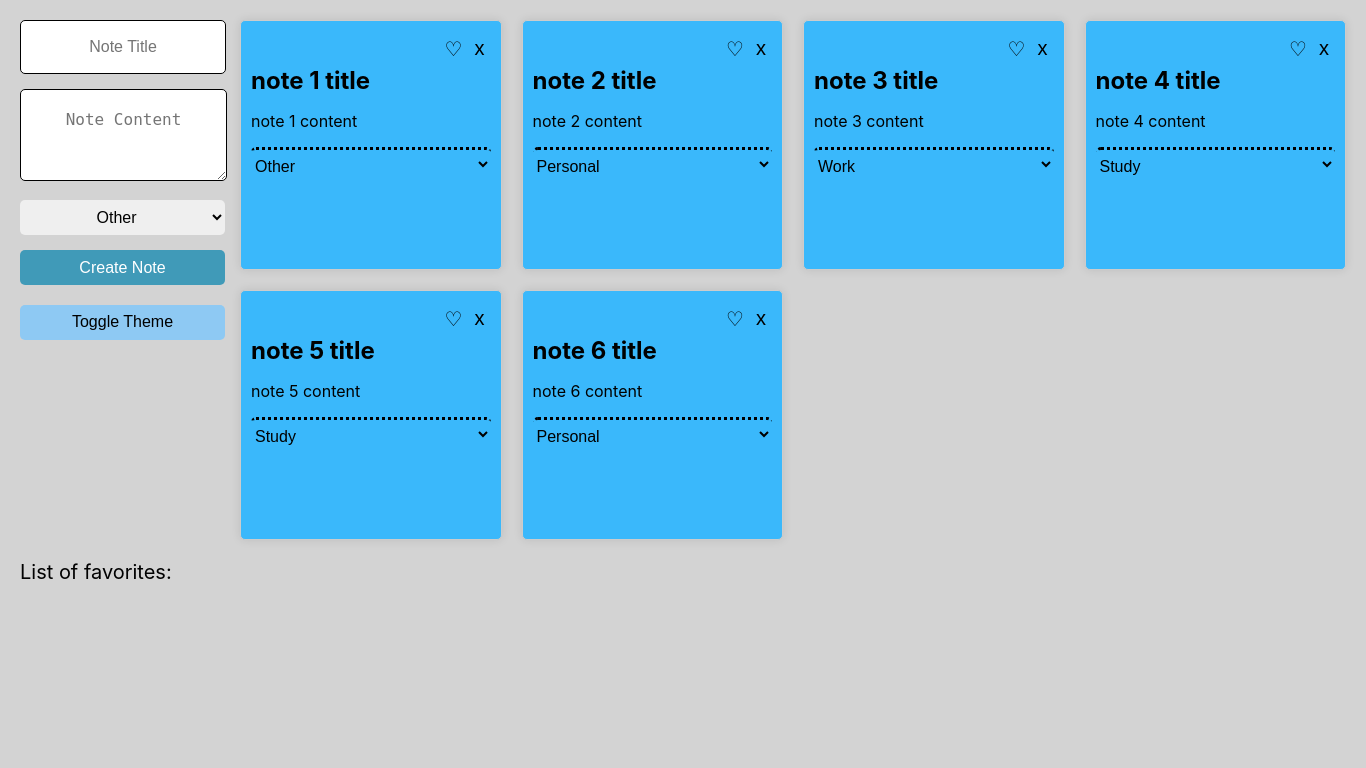
Test case: StickyNote › No note
Click the 1st button "x" at (480, 48), box [468,31,490,66]
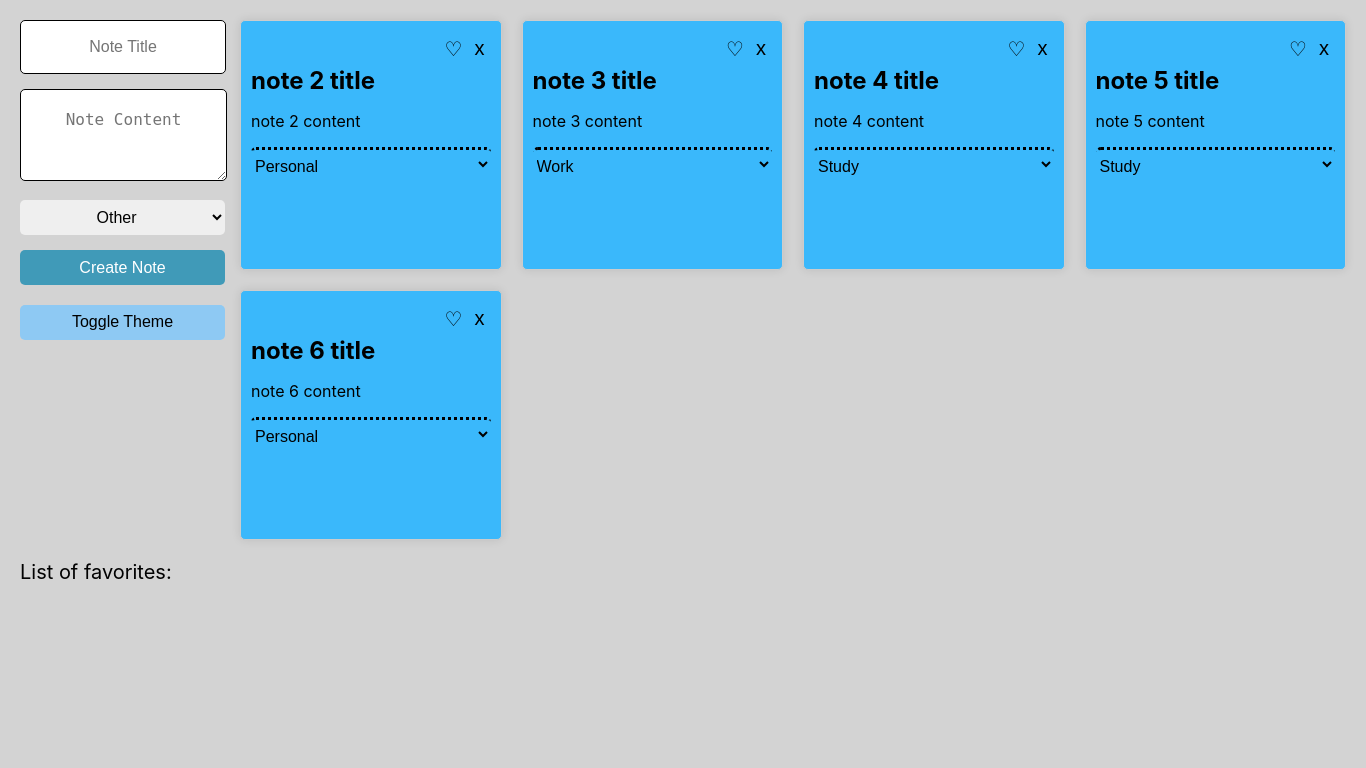
Click the 1st button "x" at (480, 48), box [468,31,490,66]
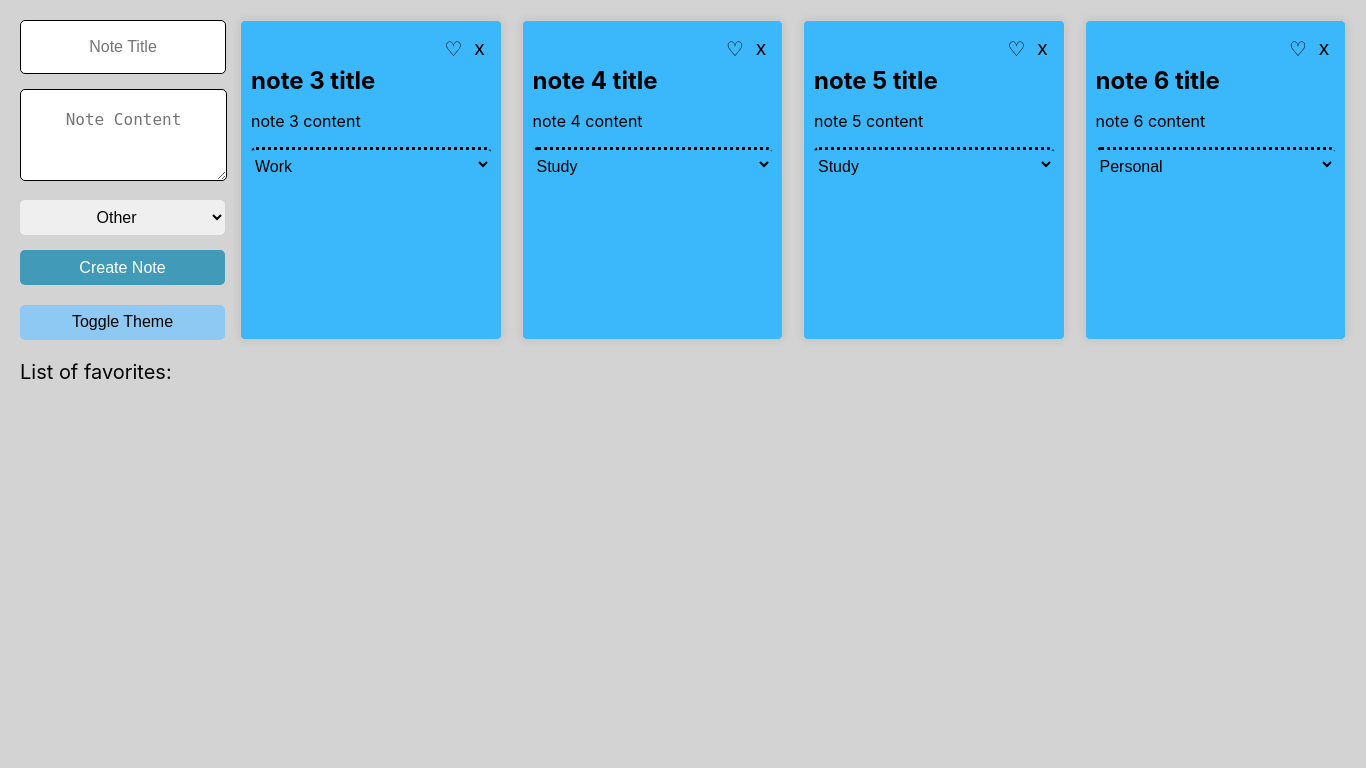
Click the 1st button "x" at (480, 48), box [468,31,490,66]
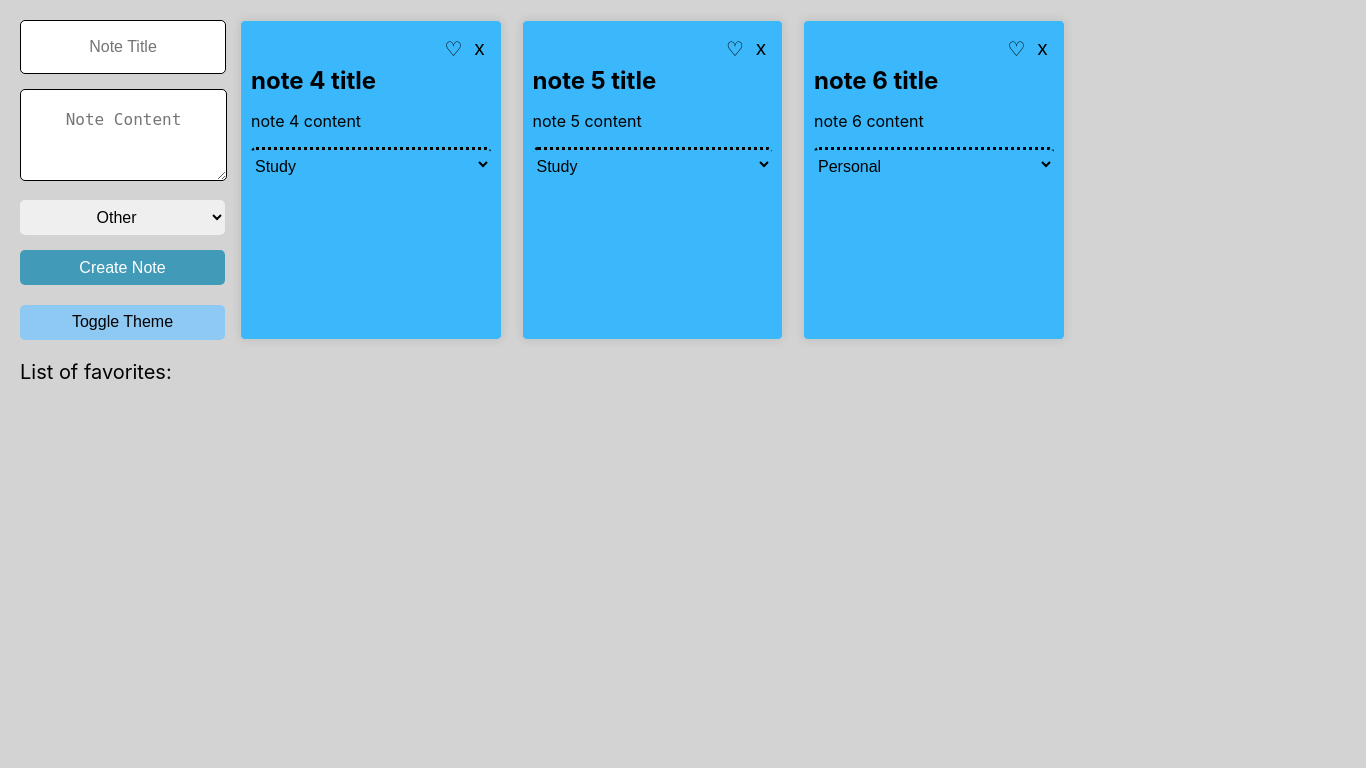
Click the 1st button "x" at (480, 48), box [468,31,490,66]
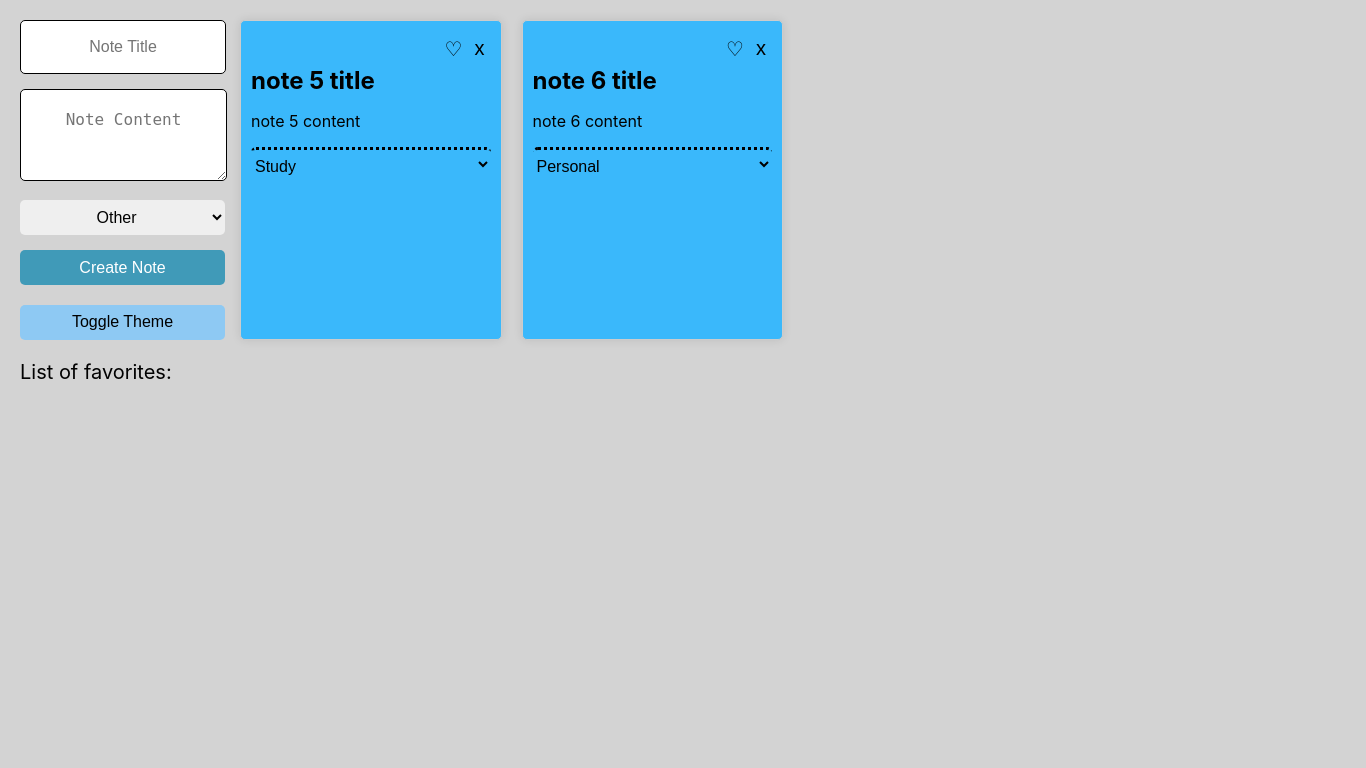
Click the 1st button "x" at (480, 48), box [468,31,490,66]
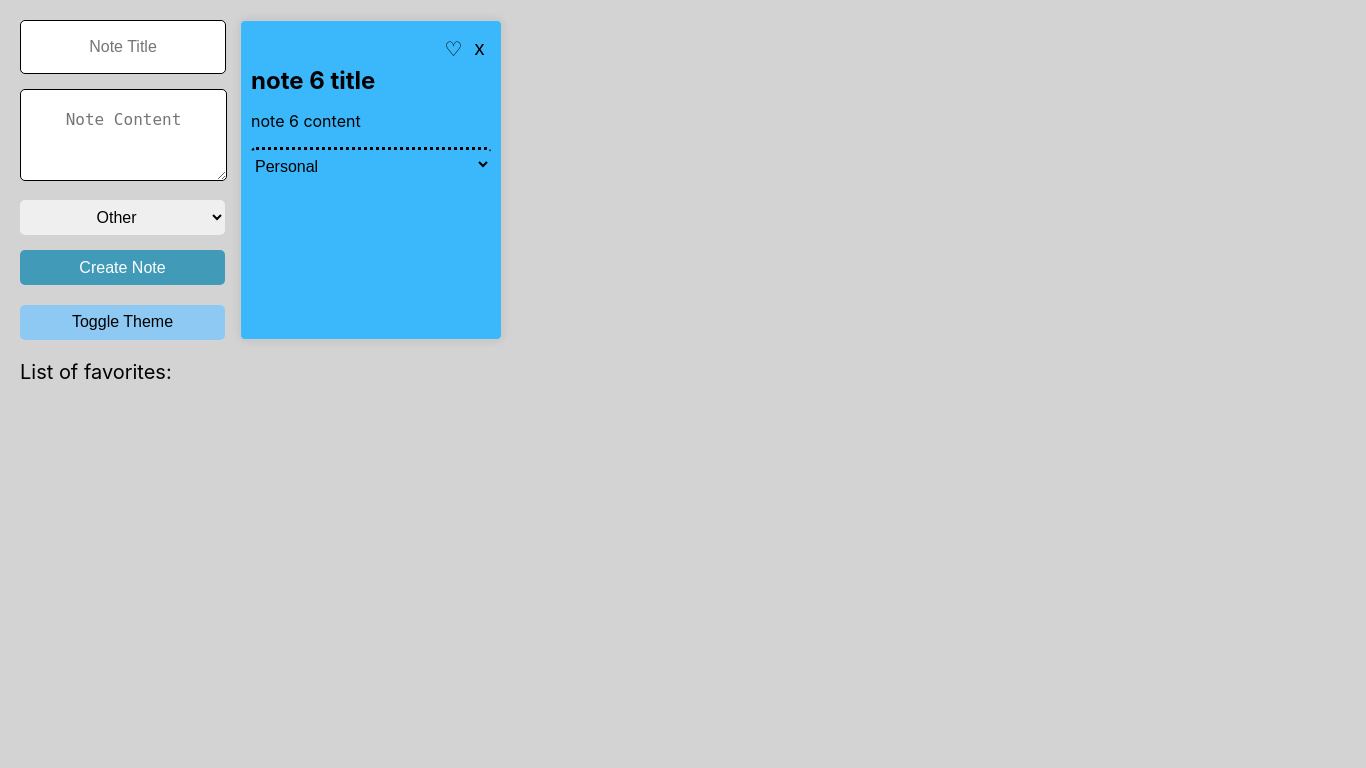
Click the button "x" at (480, 48), box [468,31,490,66]
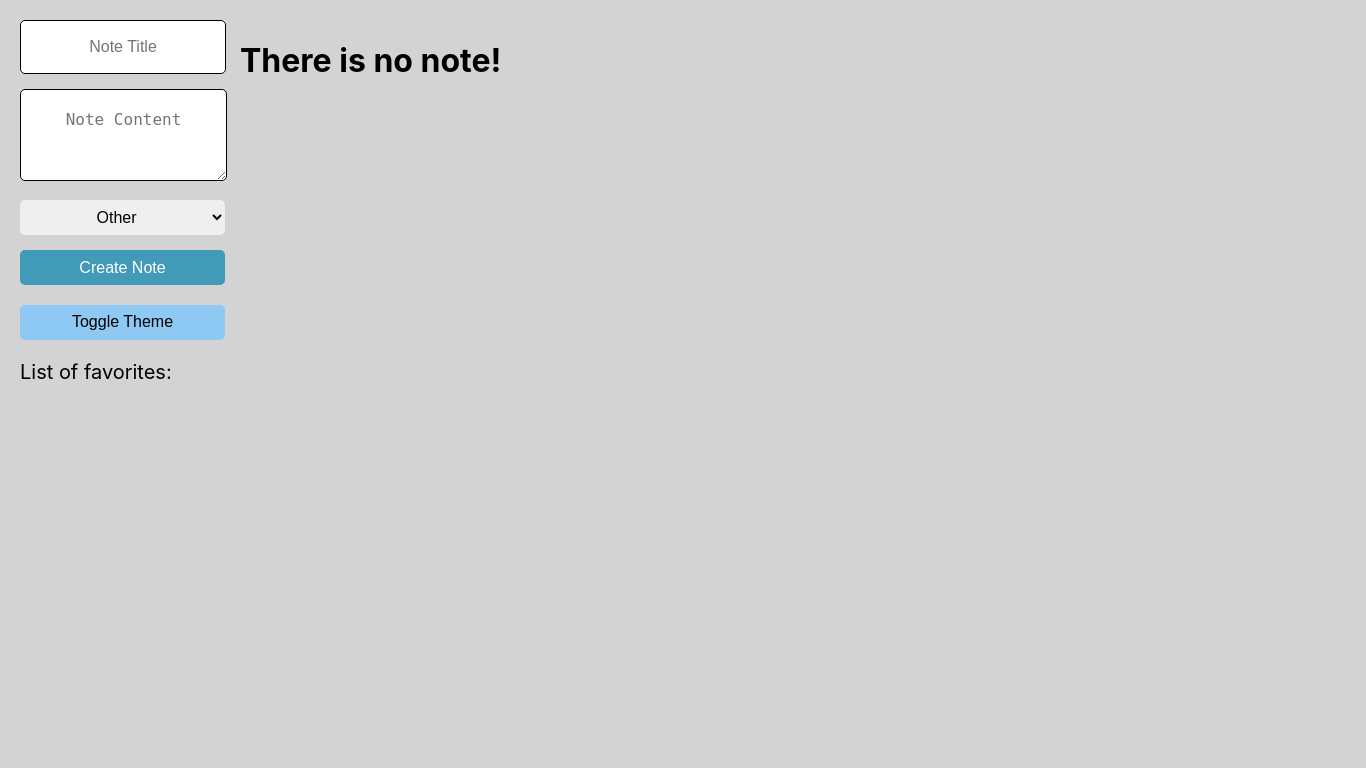
expect the heading "There is no note!" is shown: met, box [240,41,501,80]
